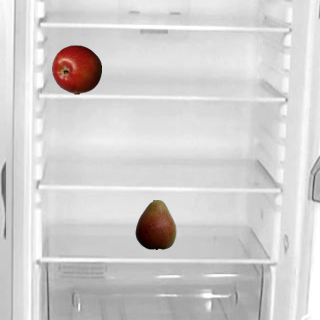Apple Braeburn: (51, 44, 101, 94)
Pear Forelle: (130, 199, 180, 249)
